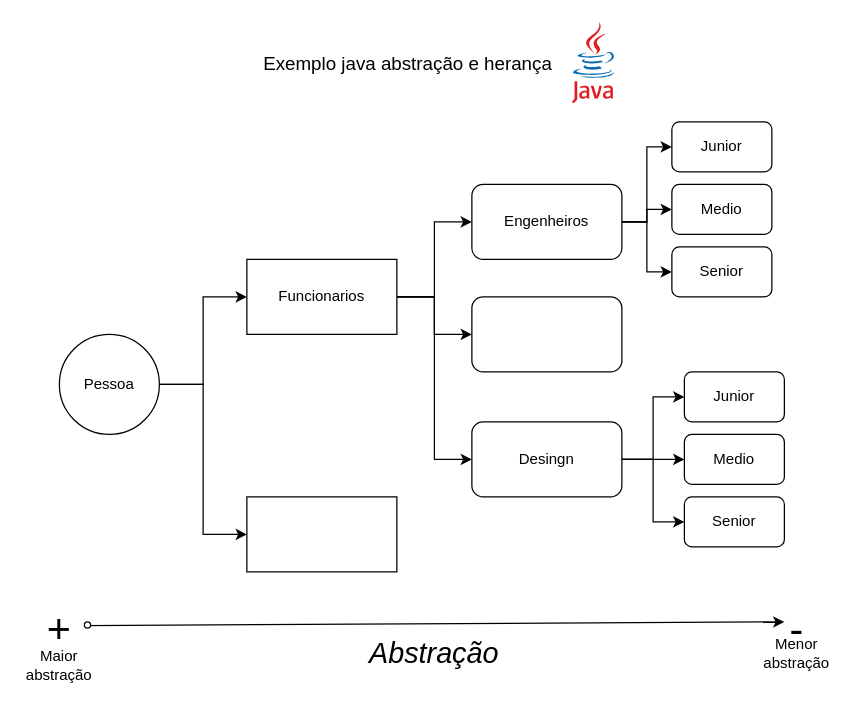
The diagram is 855 pixels wide and 706 high, and some of its shapes have lost their labels. The shapes that lost their labels are listed below. From the top down, each one's centre as x and y in pixels, then its label:
At point (546, 334): "Lider".
At point (321, 534): "Patrão".
